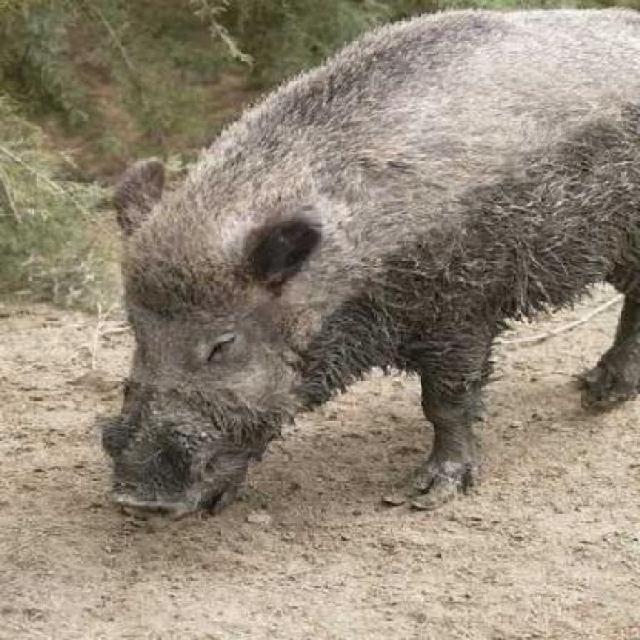pig: (41, 0, 638, 562)
